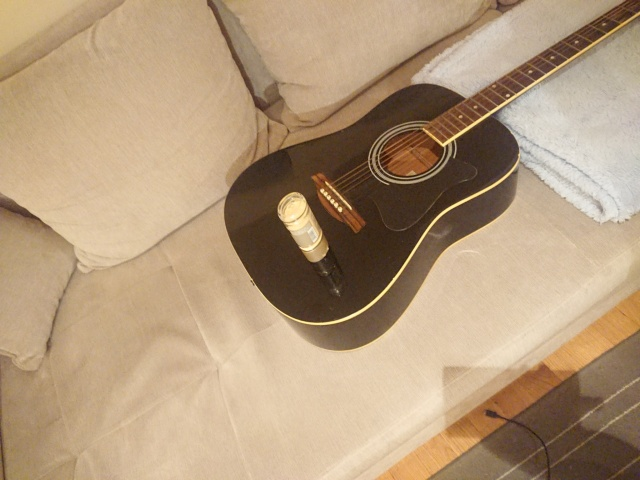Kotanyi Garlic Granules 70g: (275, 190, 331, 264)
